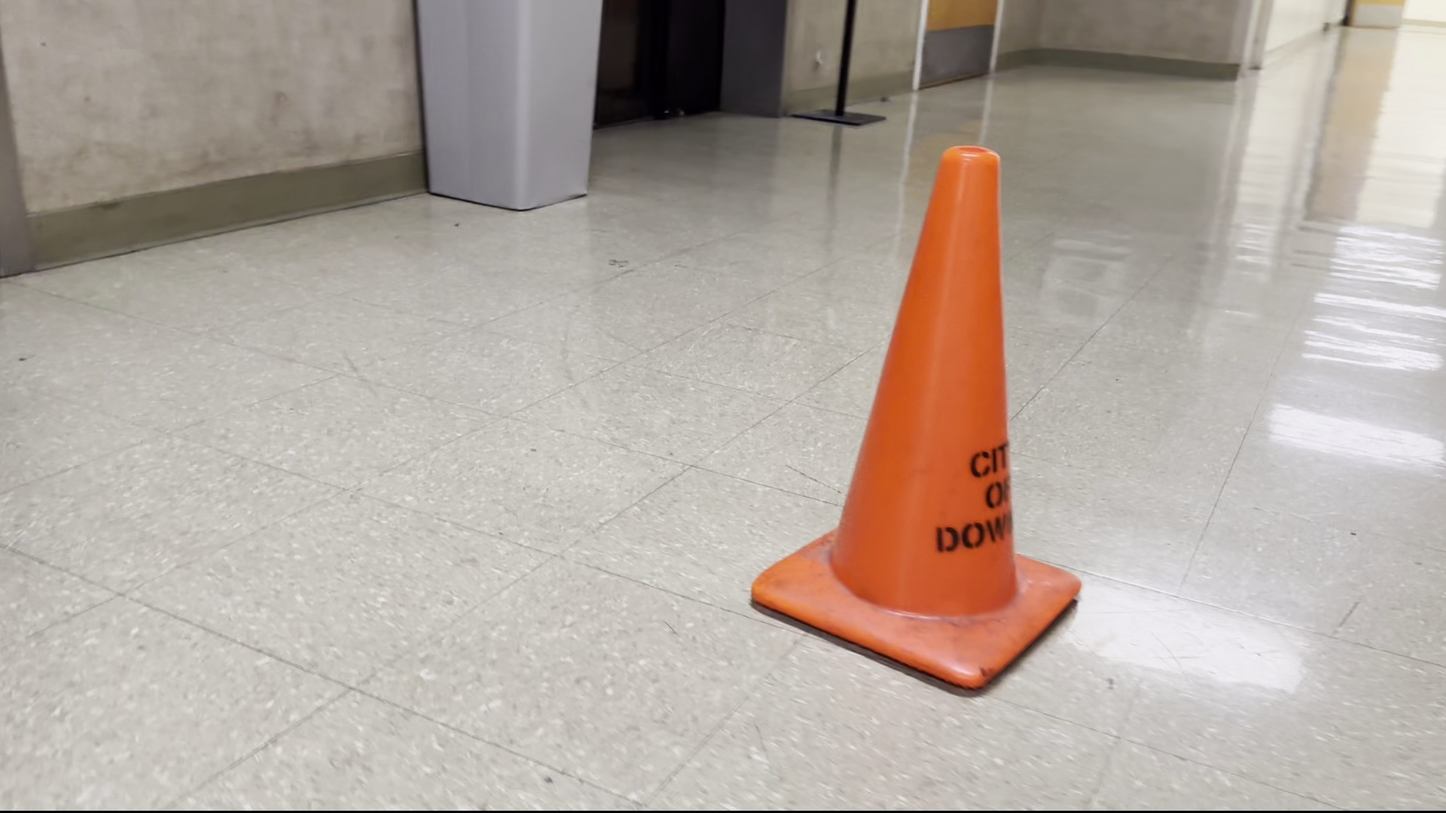traffic_cone: (750, 144, 1082, 691)
